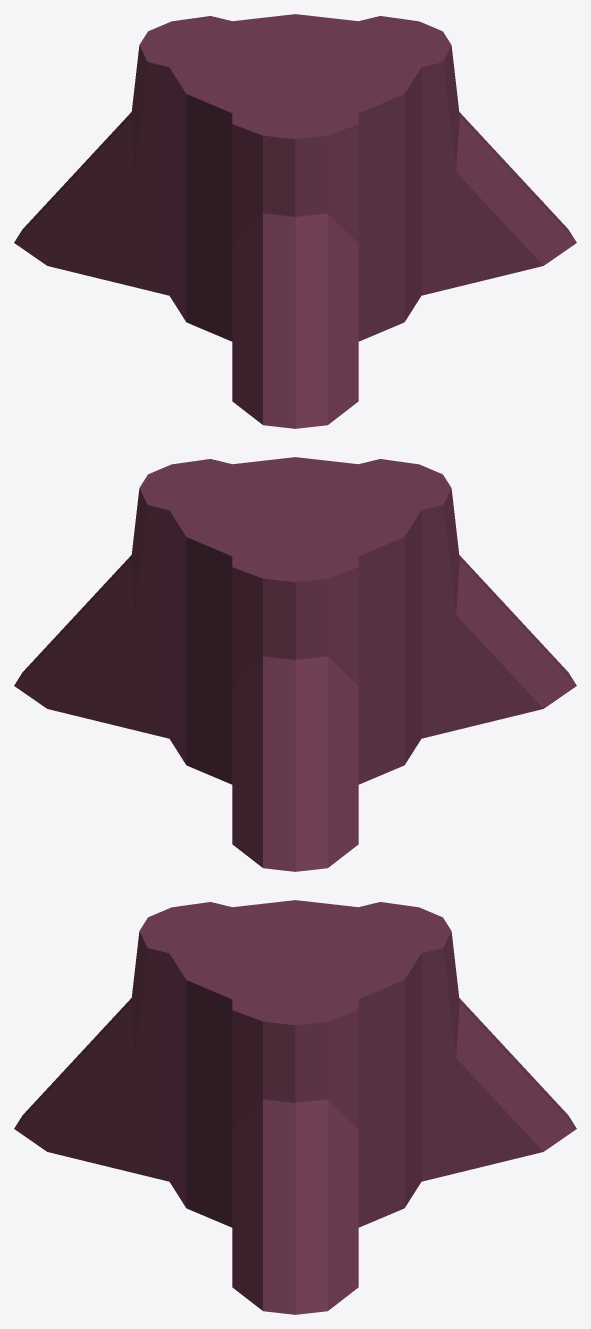
File: stump (1).fbx
3 renders of one model, top to bottom at view 1: azimuth 30°, elevation 25°; view 2: azimuth 150°, elevation 25°; view 3: azimuth 270°, elevation 25°, orthographic.
Visible parts, largest first — view 1: Cylinder.001; view 2: Cylinder.001; view 3: Cylinder.001.
Part boxes in pixels (x1,y1,x2,y2): Cylinder.001: (14,14,576,428); Cylinder.001: (14,457,576,871); Cylinder.001: (14,900,576,1314).
Bounding box in the file's own units: 394 × 200 × 447.
